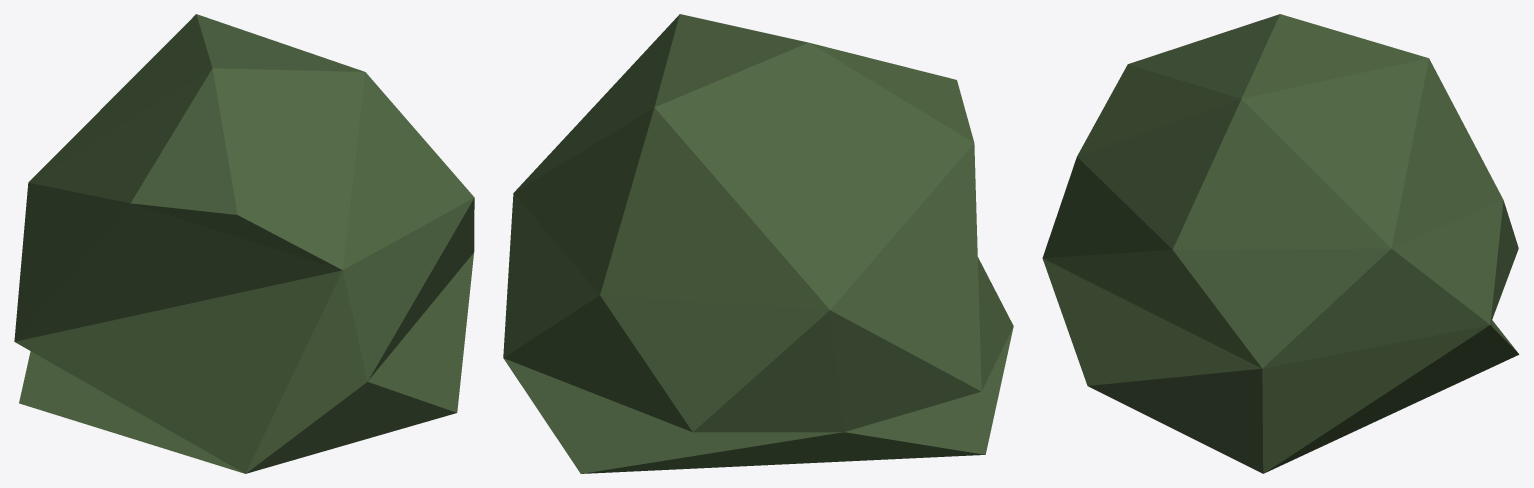
File: Bush_2_lod.glb
The picture shows the model from 3 angles, left to right: view 1: azimuth 30°, elevation 25°; view 2: azimuth 150°, elevation 25°; view 3: azimuth 270°, elevation 25°; orthographic projection. The views are drawn at different scales.
Visible parts, largest first — view 1: Bush_2; view 2: Bush_2; view 3: Bush_2.
Boxes of the visible parts, x1=… form: Bush_2: x1=14, y1=14, x2=474, y2=473; Bush_2: x1=503, y1=14, x2=1013, y2=473; Bush_2: x1=1042, y1=14, x2=1519, y2=473.
Bounding box in the file's own units: 1.32 × 1.04 × 1.3.
